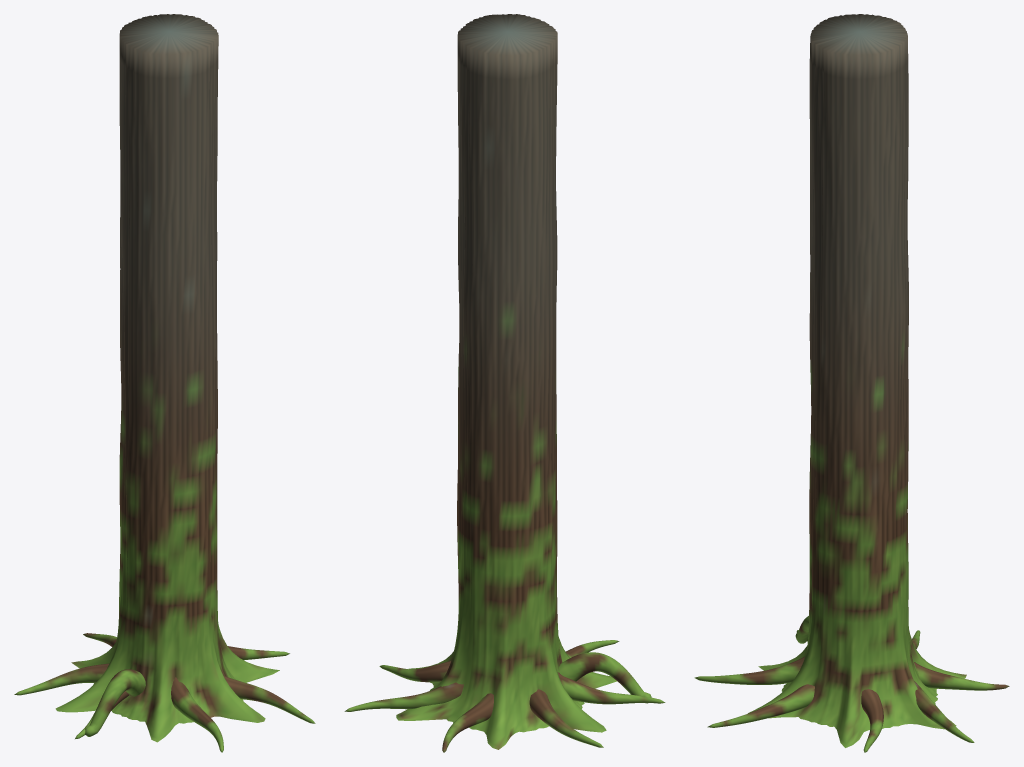
The model's file is GreatTree.fbx.
3 renders of one model, left to right at view 1: azimuth 30°, elevation 25°; view 2: azimuth 150°, elevation 25°; view 3: azimuth 270°, elevation 25°, orthographic.
Visible parts, largest first — view 1: GreatTree; view 2: GreatTree; view 3: GreatTree.
Boxes of the visible parts, box(x1,y1,x2,y2) form: GreatTree: box(14, 14, 315, 752); GreatTree: box(344, 14, 665, 752); GreatTree: box(694, 14, 1009, 752).
Size of the model in its own units: 88.62 by 224 by 96.39.
